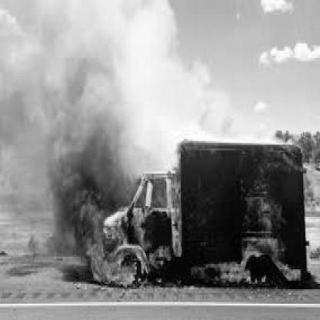Fire: (81, 201, 147, 289), (230, 258, 266, 288), (141, 180, 173, 207)
